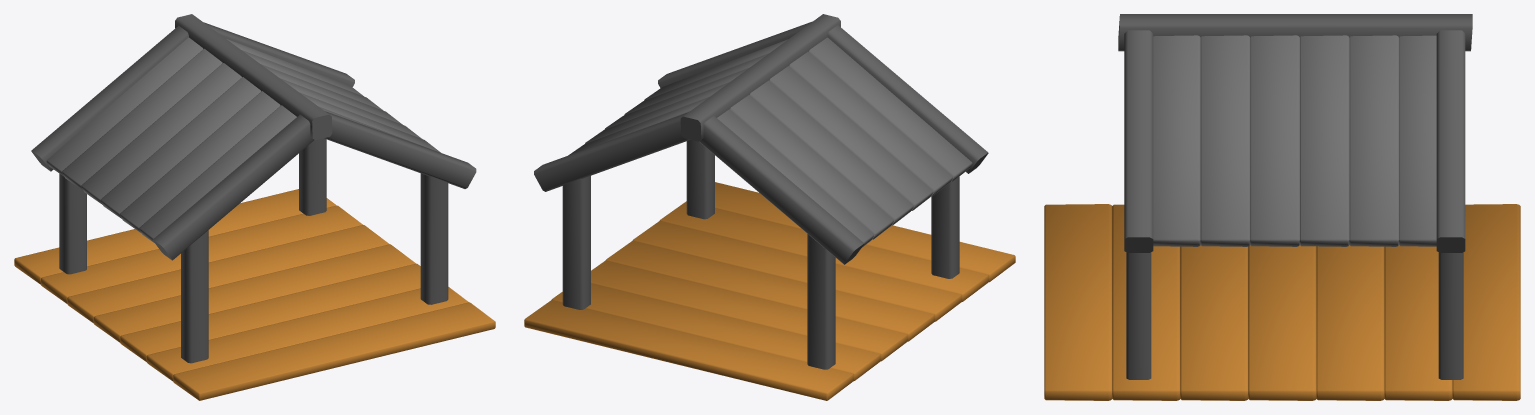
The model's file is w Storage OP.fbx.
The picture shows the model from 3 angles, left to right: view 1: azimuth 30°, elevation 25°; view 2: azimuth 150°, elevation 25°; view 3: azimuth 270°, elevation 25°; orthographic projection. The views are drawn at different scales.
Parts seen in each view (by area): view 1: Cube.018; view 2: Cube.018; view 3: Cube.018.
Boxes of the visible parts, x1,y1,x2,y2 form: Cube.018: (14, 14, 495, 400); Cube.018: (524, 14, 1015, 400); Cube.018: (1044, 14, 1520, 400).
Size of the model in its own units: 131 by 90.41 by 134.
